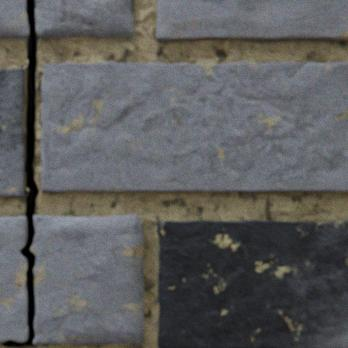brick: (41, 63, 347, 193), (157, 220, 347, 347), (155, 0, 347, 42), (0, 69, 25, 197)
broken_brick: (31, 214, 143, 344), (35, 0, 134, 39), (0, 216, 28, 342), (0, 0, 28, 40)
crack: (1, 0, 39, 347)
